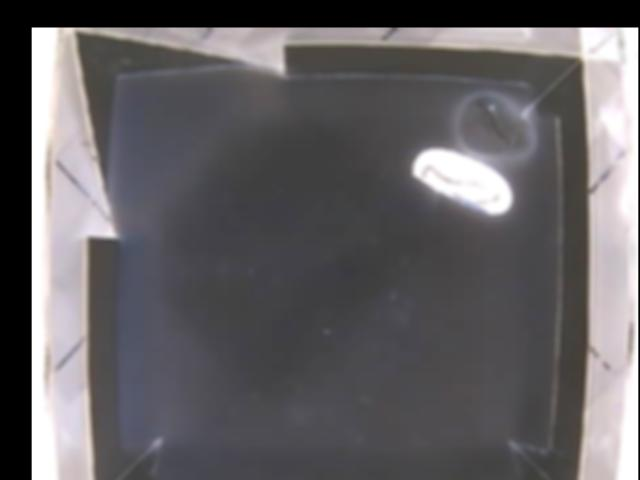Pebble: (408, 148, 509, 217), (458, 94, 532, 158)
